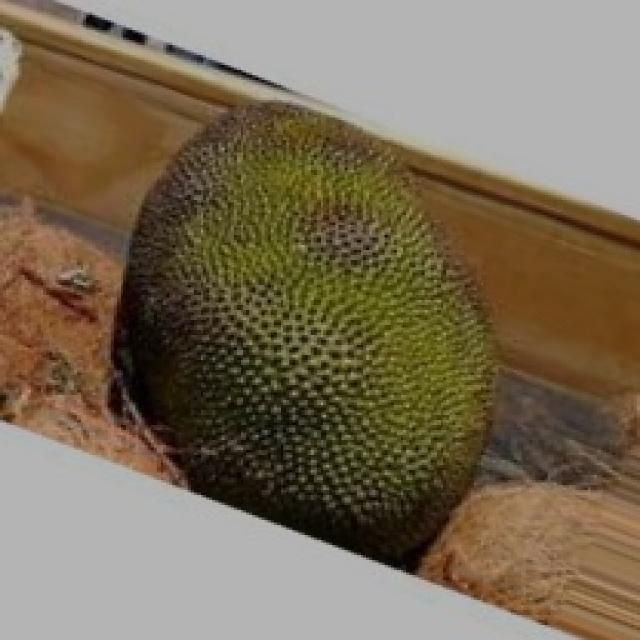Fruit: (126, 200, 545, 592)
